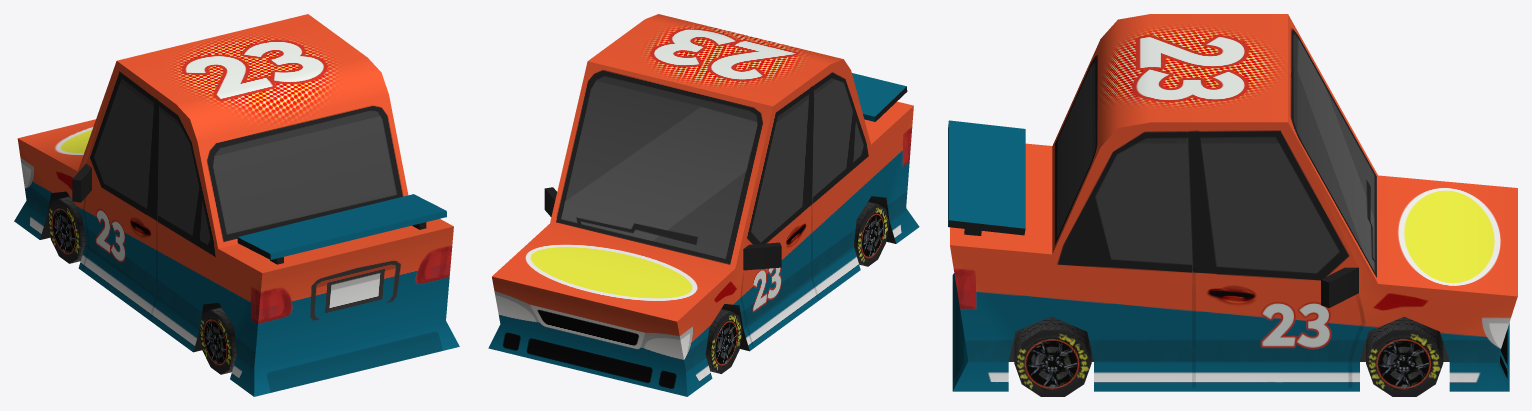
The model's file is sportscar_orange_collada_15.dae.
3 views of the same model, side by side, from view 1: azimuth 30°, elevation 25°; view 2: azimuth 150°, elevation 25°; view 3: azimuth 270°, elevation 25° (orthographic). The views are drawn at different scales.
Parts seen in each view (by area): view 1: sportscar_orange_body, wheelBL, wheelFL; view 2: sportscar_orange_body, wheelFL, wheelBL; view 3: sportscar_orange_body, wheelFR, wheelBR.
Part boxes in pixels (box(x1,y1,x2,y2)): sportscar_orange_body: box(14, 14, 459, 396); wheelBL: box(199, 307, 236, 374); wheelFL: box(47, 196, 85, 263); sportscar_orange_body: box(488, 14, 919, 396); wheelFL: box(705, 309, 742, 373); wheelBL: box(854, 201, 888, 266); sportscar_orange_body: box(948, 14, 1517, 391); wheelFR: box(1366, 316, 1443, 396); wheelBR: box(1014, 316, 1091, 396).
Size of the model in its own units: 242 by 222 by 420.
1 material, 1 textured.
